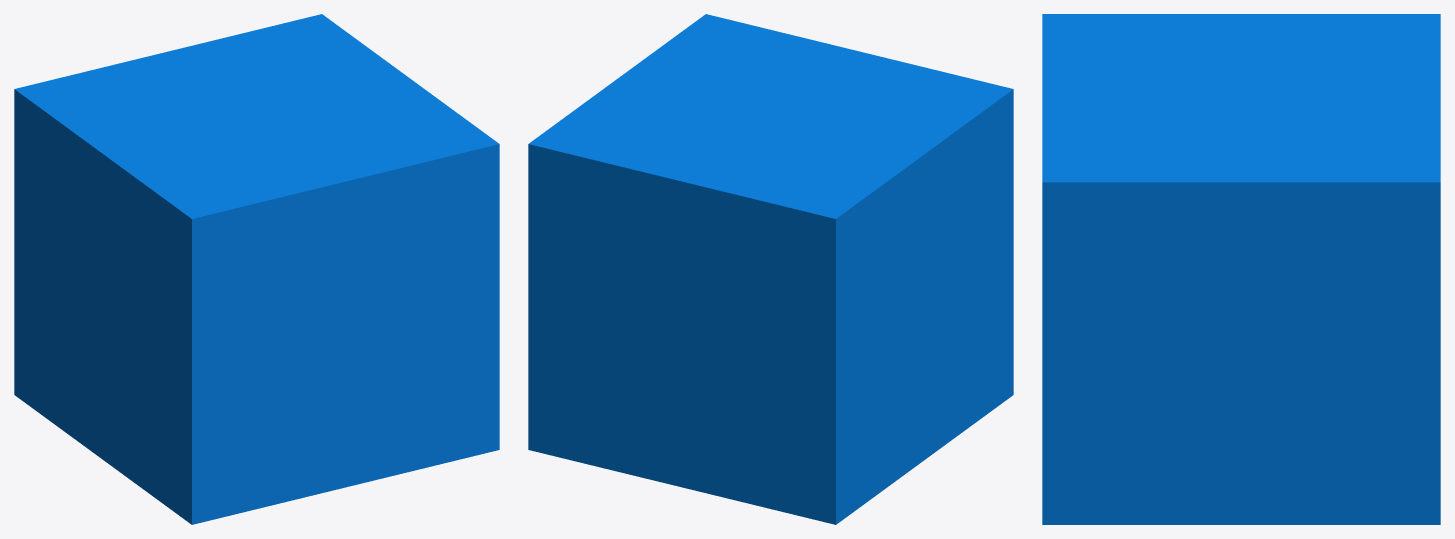
Rendered from tip.glb.
The picture shows the model from 3 angles, left to right: view 1: azimuth 30°, elevation 25°; view 2: azimuth 150°, elevation 25°; view 3: azimuth 270°, elevation 25°; orthographic projection. The views are drawn at different scales.
Parts seen in each view (by area): view 1: tip; view 2: tip; view 3: tip.
Part boxes in pixels (x1,y1,x2,y2): tip: (14,14,499,524); tip: (528,14,1013,524); tip: (1042,14,1440,524).
Bounding box in the file's own units: 1 × 1 × 1.
1 material, 1 textured.
